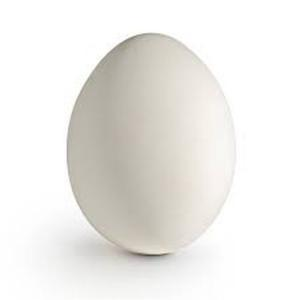Egg: (64, 30, 240, 260)
